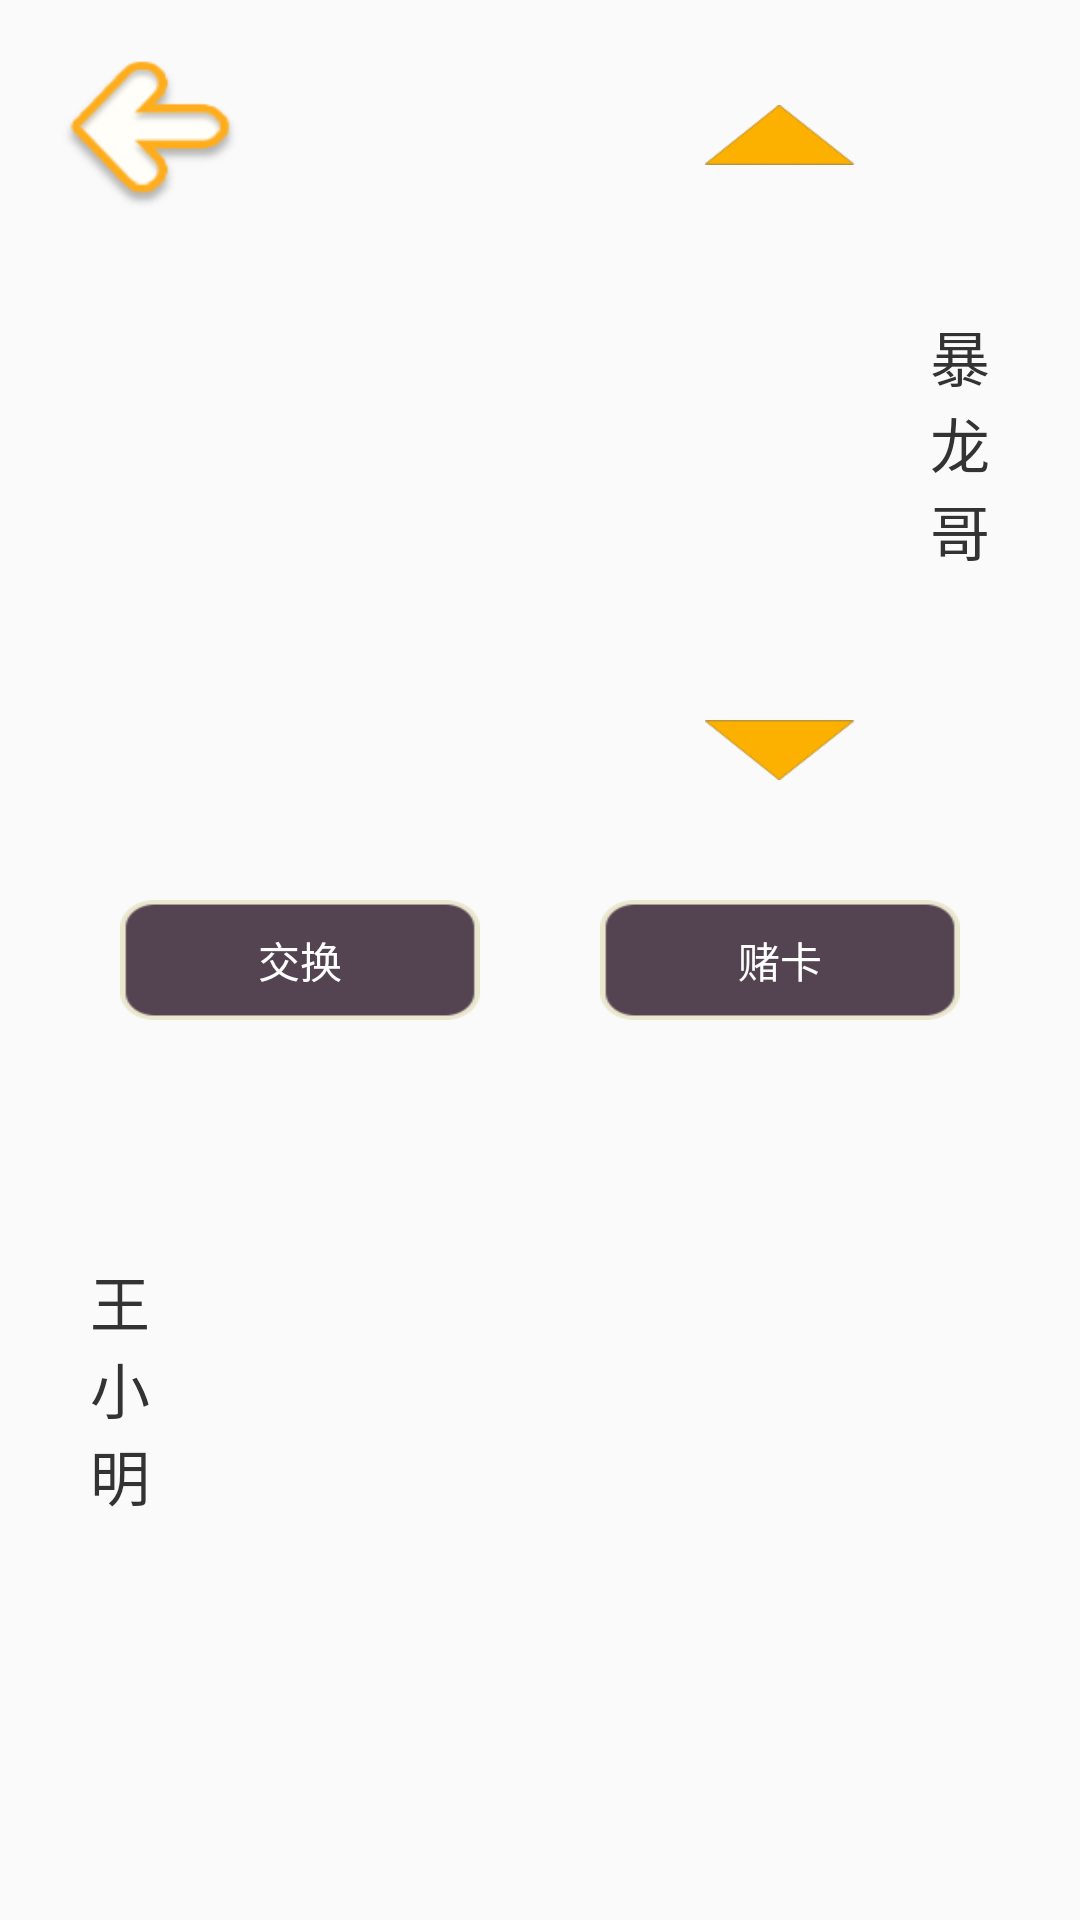

Icons on this 1080px×1920px Android screen, each with the point to tap as (x,y):
triangle pointer bottom: (780,750)
triangle pointer top: (780,135)
